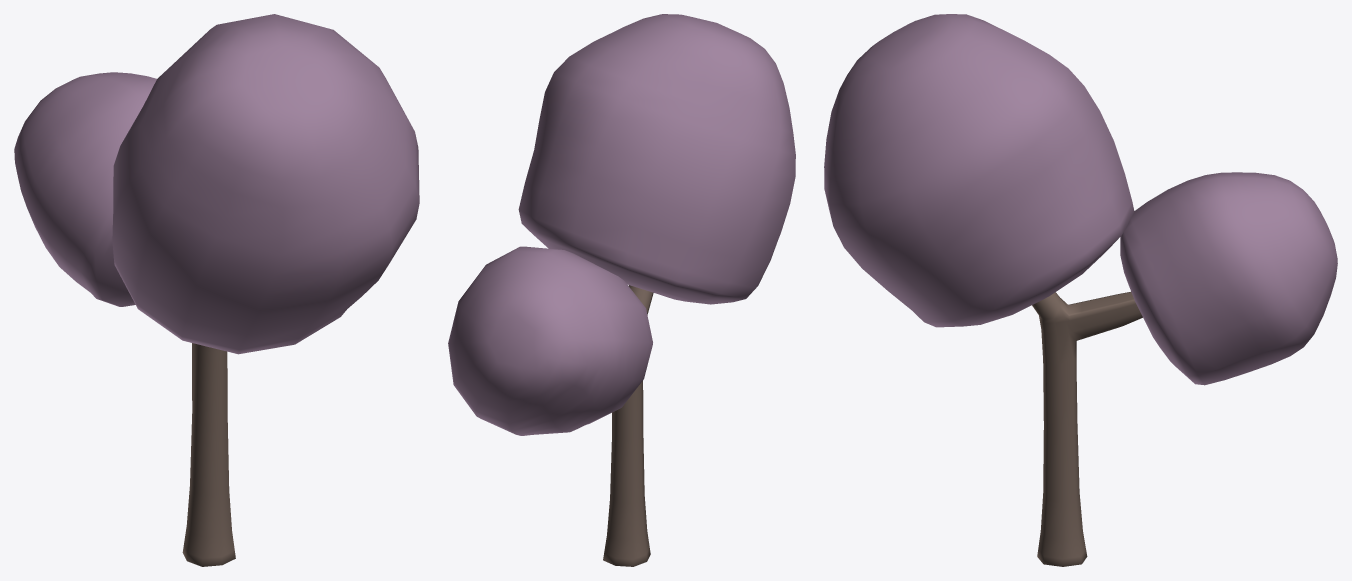
Rendered from Tree_Double_Pink.fbx.
3 renders of one model, left to right at view 1: azimuth 30°, elevation 25°; view 2: azimuth 150°, elevation 25°; view 3: azimuth 270°, elevation 25°, orthographic. The views are drawn at different scales.
Parts seen in each view (by area): view 1: Leaves, Leaves1, Trunk; view 2: Leaves, Leaves1, Trunk; view 3: Leaves, Leaves1, Trunk.
Part boxes in pixels (x1,y1,x2,y2): Leaves: [112, 14, 419, 354]; Leaves1: [14, 72, 156, 306]; Trunk: [182, 343, 235, 566]; Leaves: [518, 14, 795, 304]; Leaves1: [448, 246, 652, 435]; Trunk: [603, 285, 653, 566]; Leaves: [824, 14, 1134, 327]; Leaves1: [1120, 172, 1337, 385]; Trunk: [1032, 292, 1142, 566].
Bounding box in the file's own units: 0.798 × 1.68 × 1.47.
